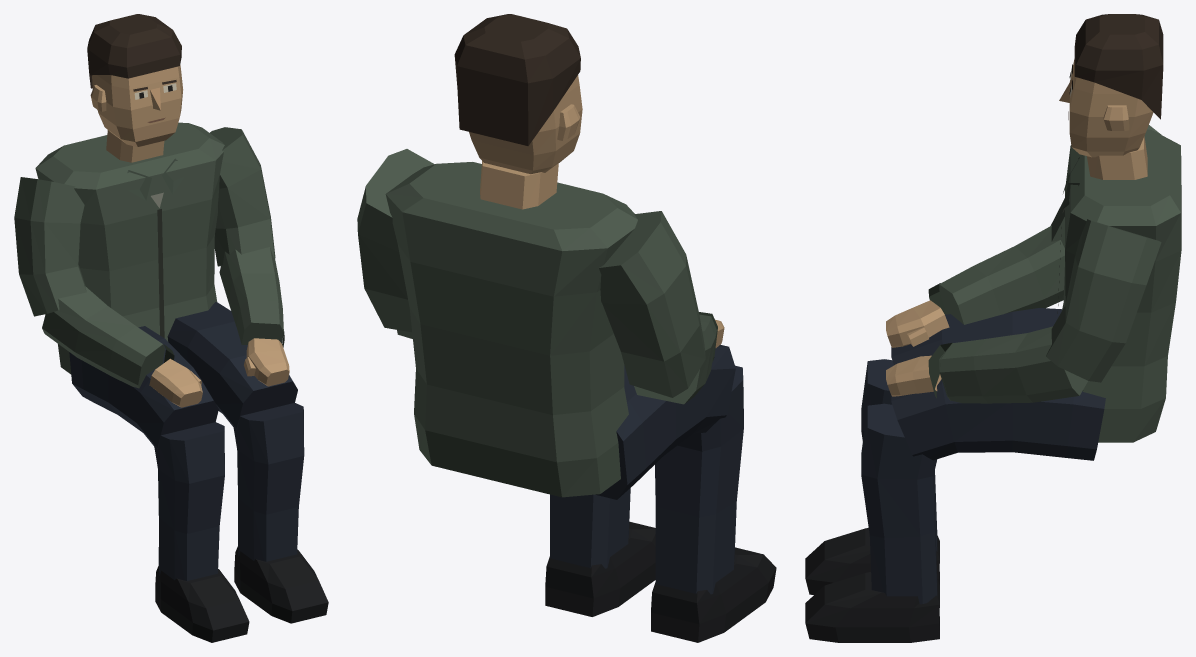
File: npc_sidit.glb
3 views of the same model, side by side, from view 1: azimuth 30°, elevation 25°; view 2: azimuth 150°, elevation 25°; view 3: azimuth 270°, elevation 25° (orthographic). The views are drawn at different scales.
Parts seen in each view (by area): view 1: Passenger_Seated_v2; view 2: Passenger_Seated_v2; view 3: Passenger_Seated_v2.
Part boxes in pixels (left/top/right/bottom): Passenger_Seated_v2: left=14, top=14, right=328, bottom=642; Passenger_Seated_v2: left=357, top=14, right=776, bottom=642; Passenger_Seated_v2: left=805, top=14, right=1181, bottom=642.
Bounding box in the file's own units: 0.63 × 1.28 × 0.749.
Materials: 1 (1 with a texture image).
